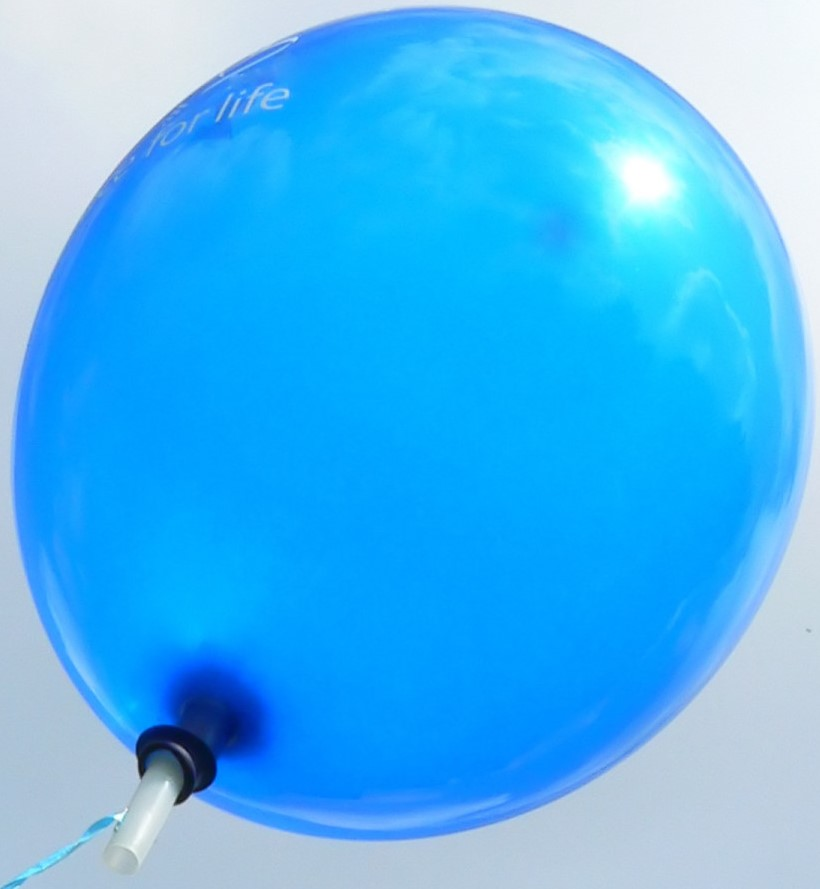Balloon: (14, 4, 810, 836)
